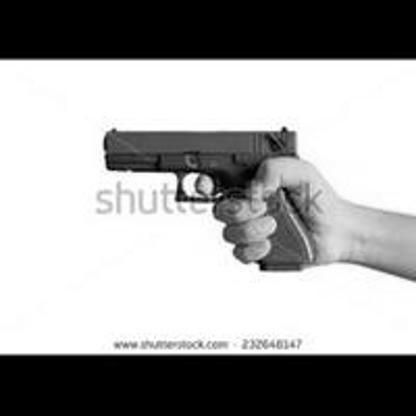weapon: (99, 126, 317, 279)
